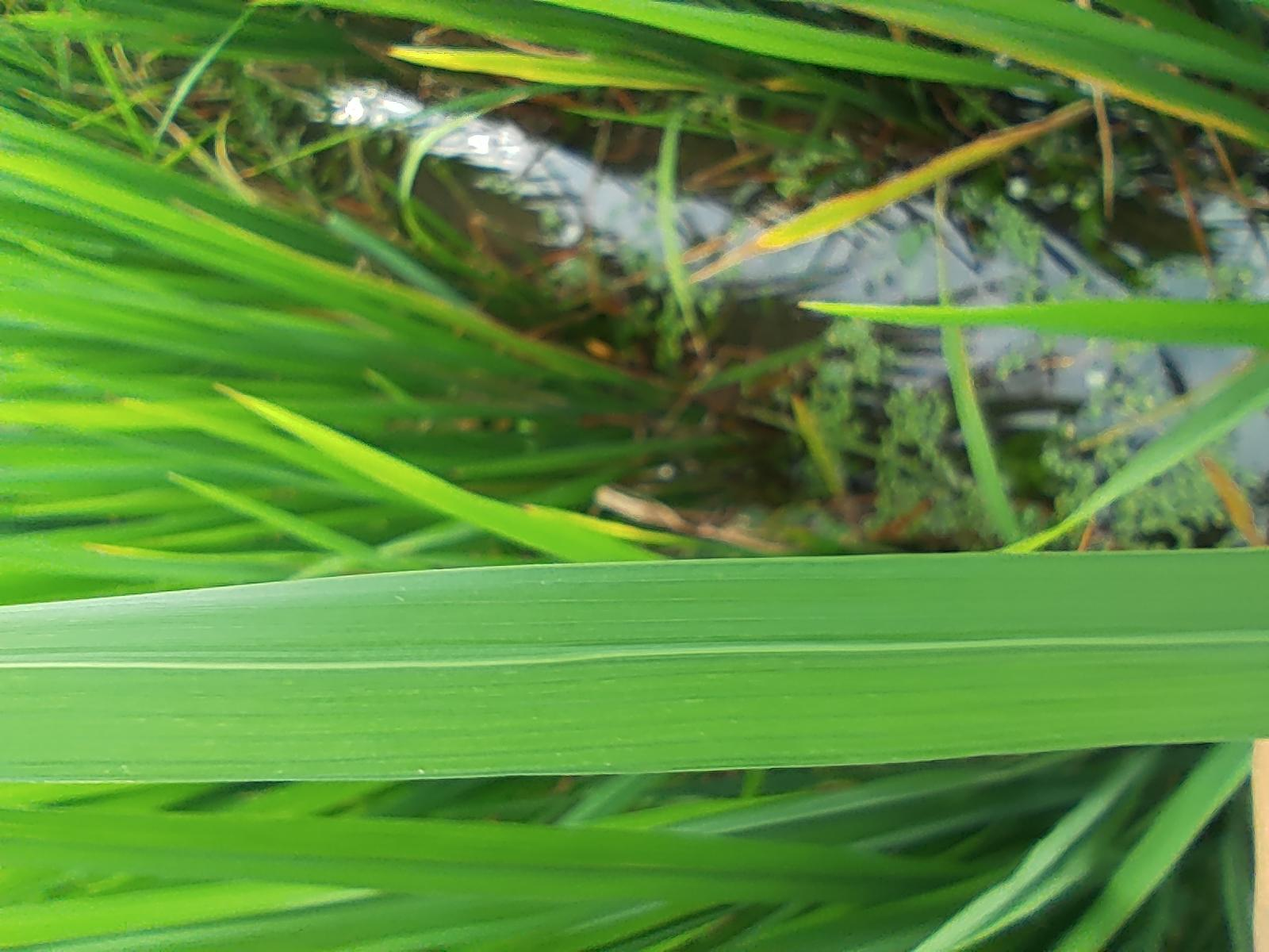Healthy: (227, 0, 536, 951)
